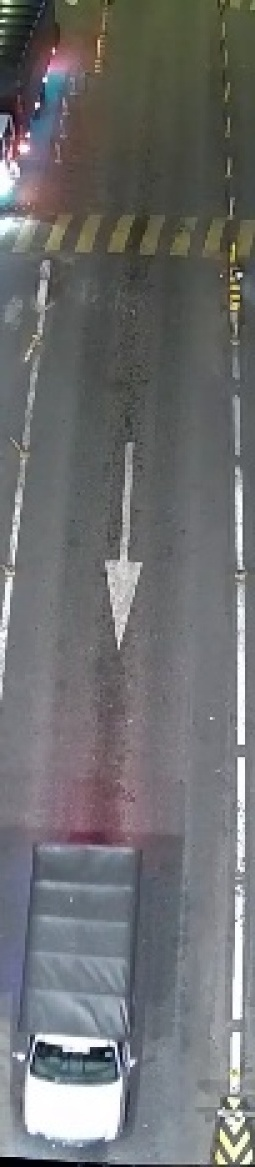truck: (2, 828, 153, 1151)
